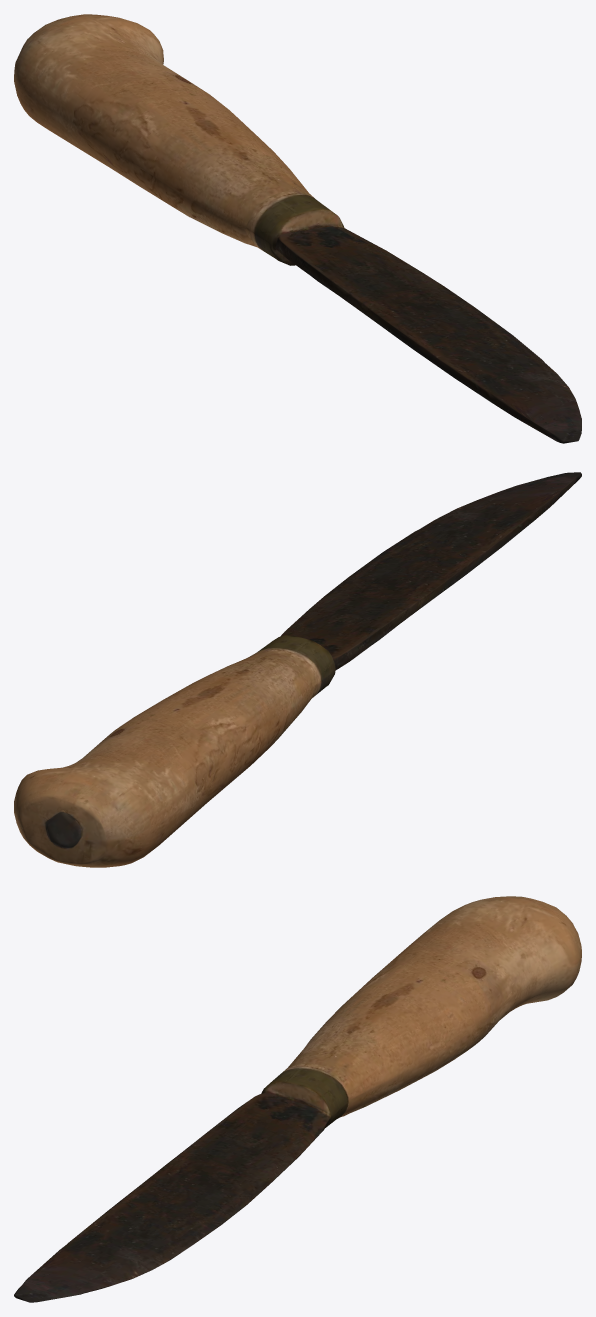
The model's file is knife.glb.
3 views of the same model, one above another, from view 1: azimuth 30°, elevation 25°; view 2: azimuth 150°, elevation 25°; view 3: azimuth 330°, elevation 25° (orthographic). The views are drawn at different scales.
Parts seen in each view (by area): view 1: xiyoaab_LOD0_TIER2_000; view 2: xiyoaab_LOD0_TIER2_000; view 3: xiyoaab_LOD0_TIER2_000.
Boxes of the visible parts, x1=… form: xiyoaab_LOD0_TIER2_000: x1=14, y1=14, x2=581, y2=443; xiyoaab_LOD0_TIER2_000: x1=14, y1=472, x2=581, y2=867; xiyoaab_LOD0_TIER2_000: x1=14, y1=896, x2=581, y2=1302.
Size of the model in its own units: 0.0556 by 0.035 by 0.3584.
1 material, 1 textured.
